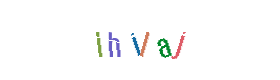A: (123, 0, 203, 80)
H: (84, 0, 164, 80)
I: (96, 0, 176, 80)
J: (124, 0, 204, 80)
L: (74, 0, 154, 80), (99, 0, 179, 80)
